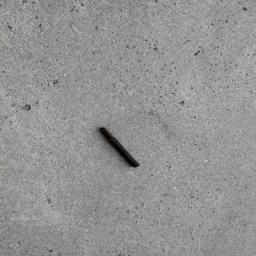FOD: (96, 125, 143, 171)
